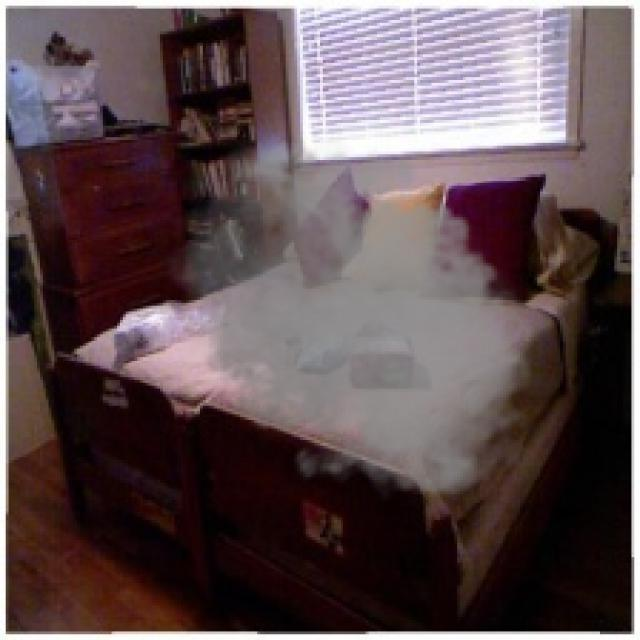Smoke: (154, 128, 543, 503)
